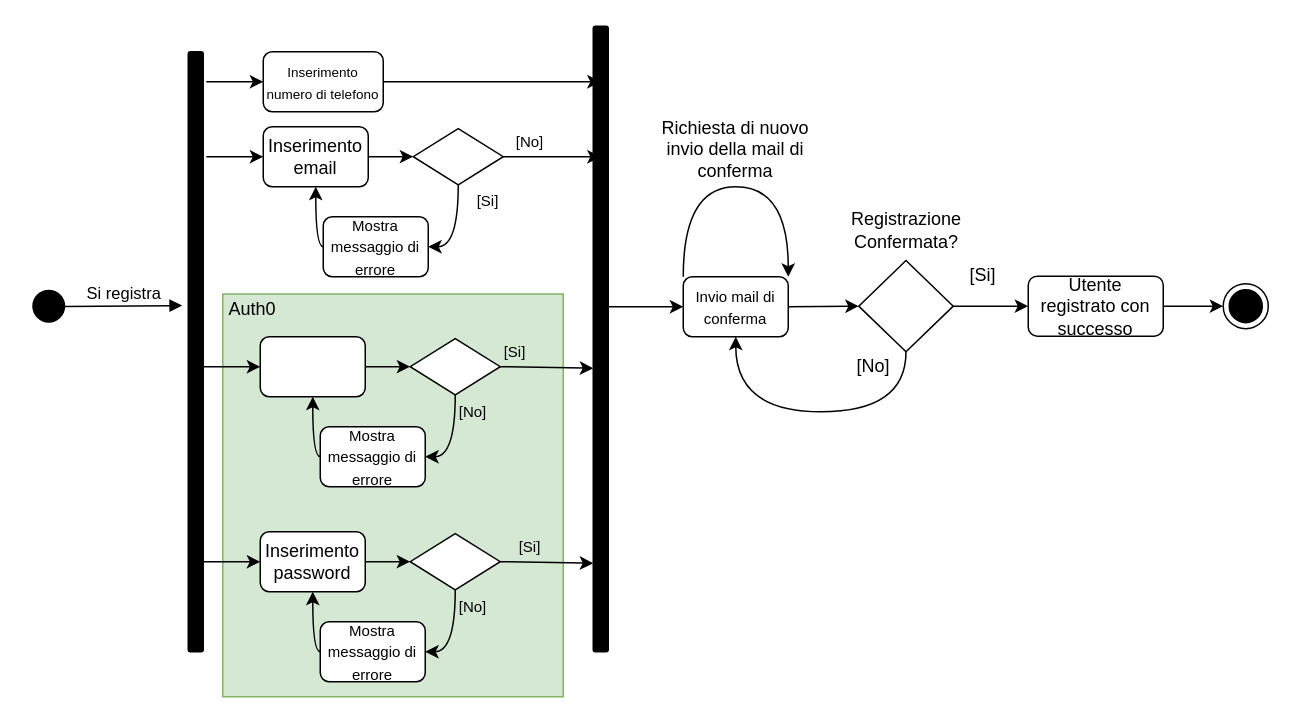
The diagram is 1295 pixels wide and 723 high, and some of its shapes have lost their labels. The box of each missing label's shape, as (x1, y1, x2, y2) in pixels:
Conforme?: (409, 532, 500, 590)
Già presente?: (412, 127, 503, 185)
Inserimento username: (259, 335, 365, 397)
Univoco?: (409, 337, 500, 395)
